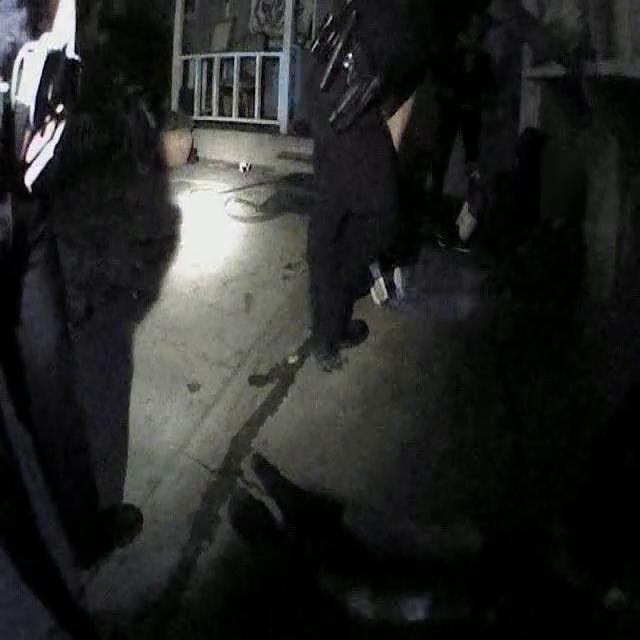gun: (323, 36, 386, 138)
